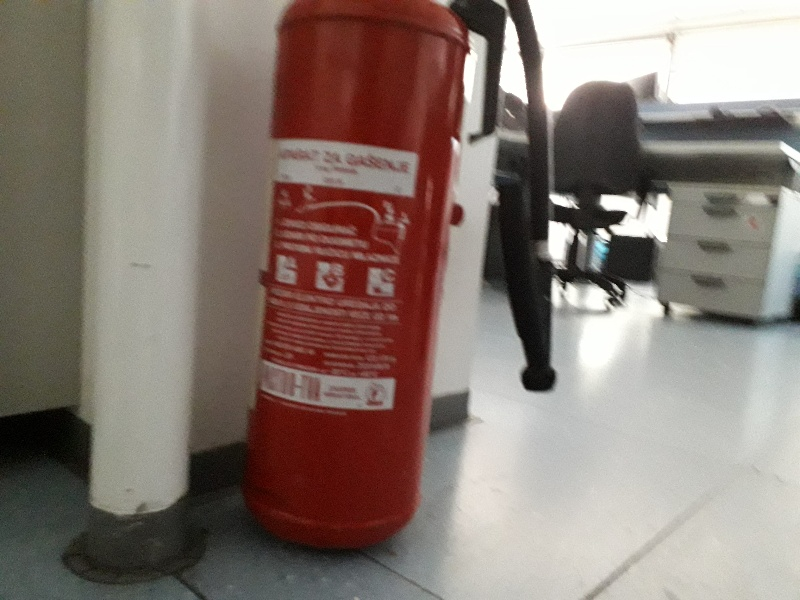vataparat: (243, 1, 556, 550)
